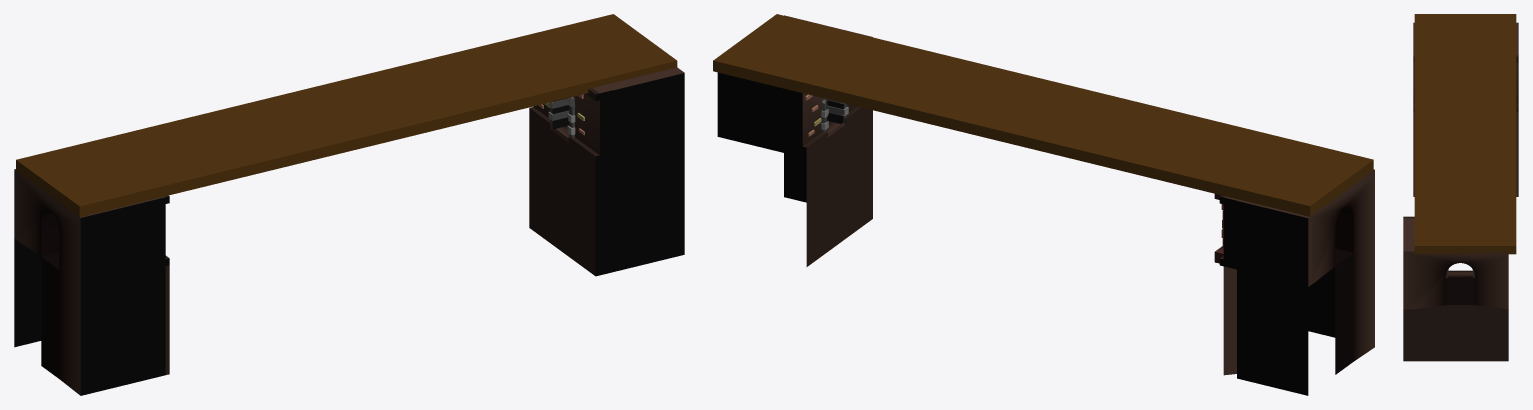
The model's file is Entrance_Exit_3.fbx.
The picture shows the model from 3 angles, left to right: view 1: azimuth 30°, elevation 25°; view 2: azimuth 150°, elevation 25°; view 3: azimuth 270°, elevation 25°; orthographic projection. The views are drawn at different scales.
Visible parts, largest first — view 1: Entrance_Exit_3; view 2: Entrance_Exit_3; view 3: Entrance_Exit_3.
Boxes of the visible parts, x1,y1,x2,y2 form: Entrance_Exit_3: [14, 14, 684, 395]; Entrance_Exit_3: [713, 14, 1374, 395]; Entrance_Exit_3: [1403, 14, 1518, 361].
Bounding box in the file's own units: 29.77 × 8.98 × 6.27.
